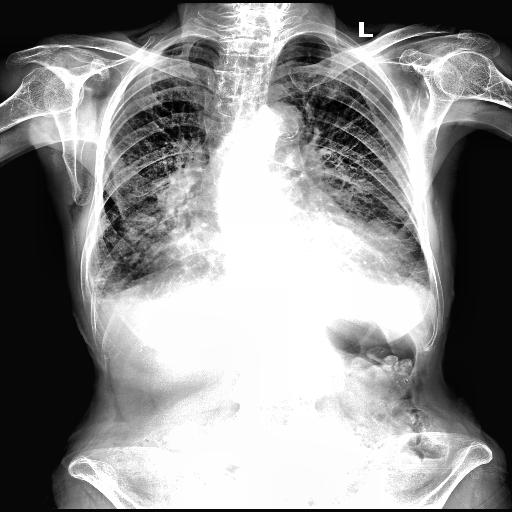0- Aortic enlargement: (249, 100, 302, 155), (246, 101, 305, 146), (256, 102, 306, 154)
10- Pleural effusion: (70, 276, 132, 306), (404, 266, 446, 308), (82, 281, 118, 313), (90, 286, 113, 313)
11- Pleural thickening: (70, 276, 132, 306), (404, 266, 446, 308), (82, 281, 118, 313), (90, 286, 113, 313)
3- Cardiomegaly: (164, 242, 412, 300), (172, 227, 404, 280)
6- Infiltration: (92, 143, 218, 300), (82, 197, 205, 287), (336, 214, 428, 284)
7- Lung Opacity: (92, 143, 218, 300), (98, 158, 220, 290), (300, 162, 424, 284), (82, 197, 205, 287), (336, 214, 428, 284), (361, 220, 429, 286)
